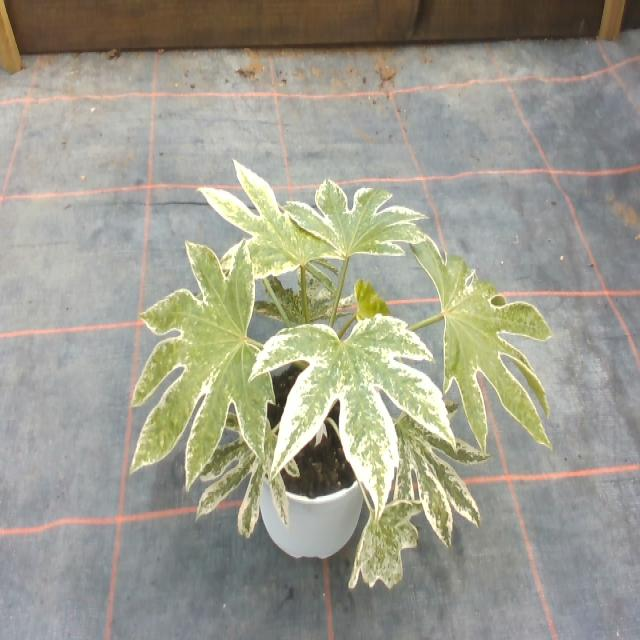Fatsia-japonica: (396, 219, 568, 461), (250, 294, 448, 501), (125, 237, 282, 493), (196, 152, 353, 298), (355, 376, 486, 548), (276, 166, 432, 289), (196, 396, 298, 533), (337, 491, 424, 596), (346, 276, 392, 322)
